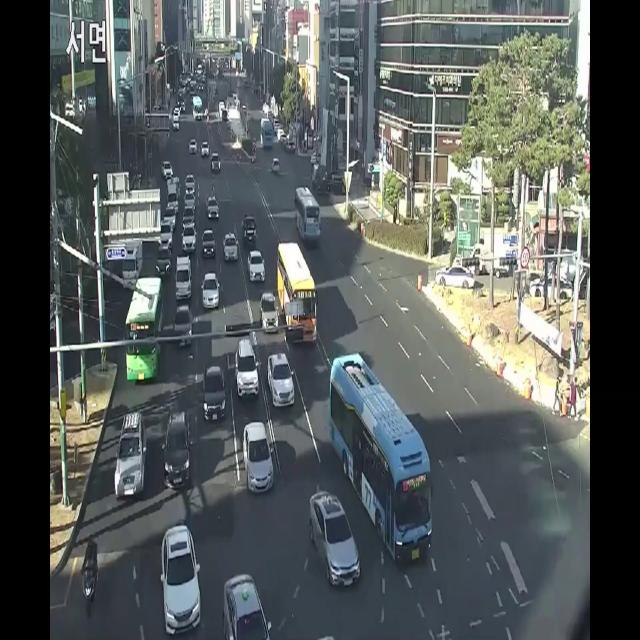bus: (80, 531, 100, 619)
car: (329, 350, 434, 566), (276, 238, 317, 346), (124, 274, 164, 380), (295, 183, 322, 245), (259, 115, 275, 152)
motorcycle: (307, 489, 362, 588), (160, 522, 203, 634), (114, 412, 150, 501), (163, 408, 194, 492), (243, 419, 275, 499), (266, 350, 297, 412), (202, 362, 228, 424), (234, 335, 258, 398), (170, 302, 196, 348), (259, 288, 283, 335), (200, 269, 222, 311), (246, 246, 265, 287), (153, 244, 174, 281), (223, 227, 240, 266), (201, 226, 217, 258), (206, 190, 222, 218)
truck: (120, 237, 144, 290), (175, 251, 193, 301), (240, 211, 259, 245)
